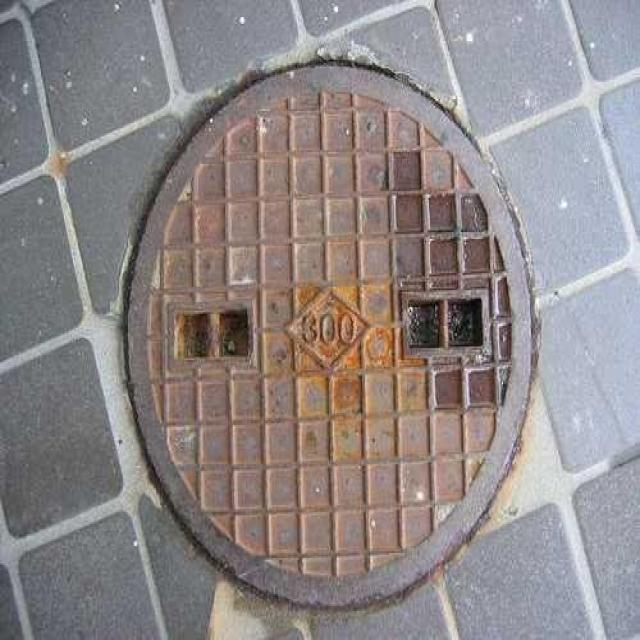manhole: (130, 63, 531, 604)
